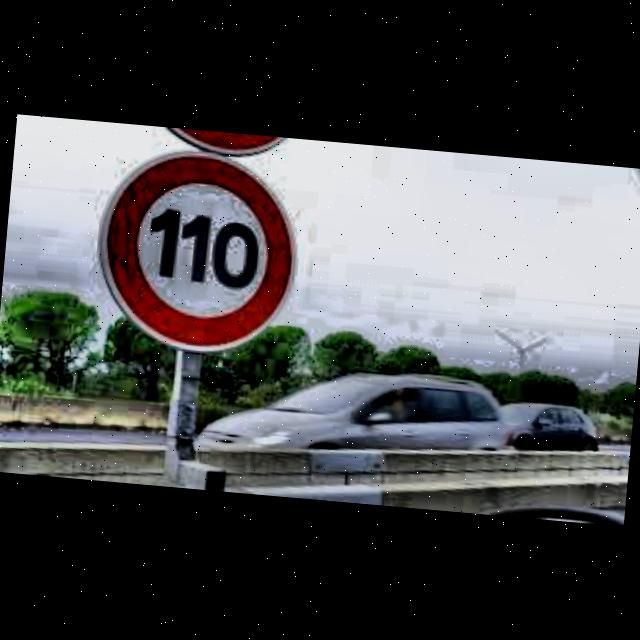speed_110: (93, 145, 304, 361)
